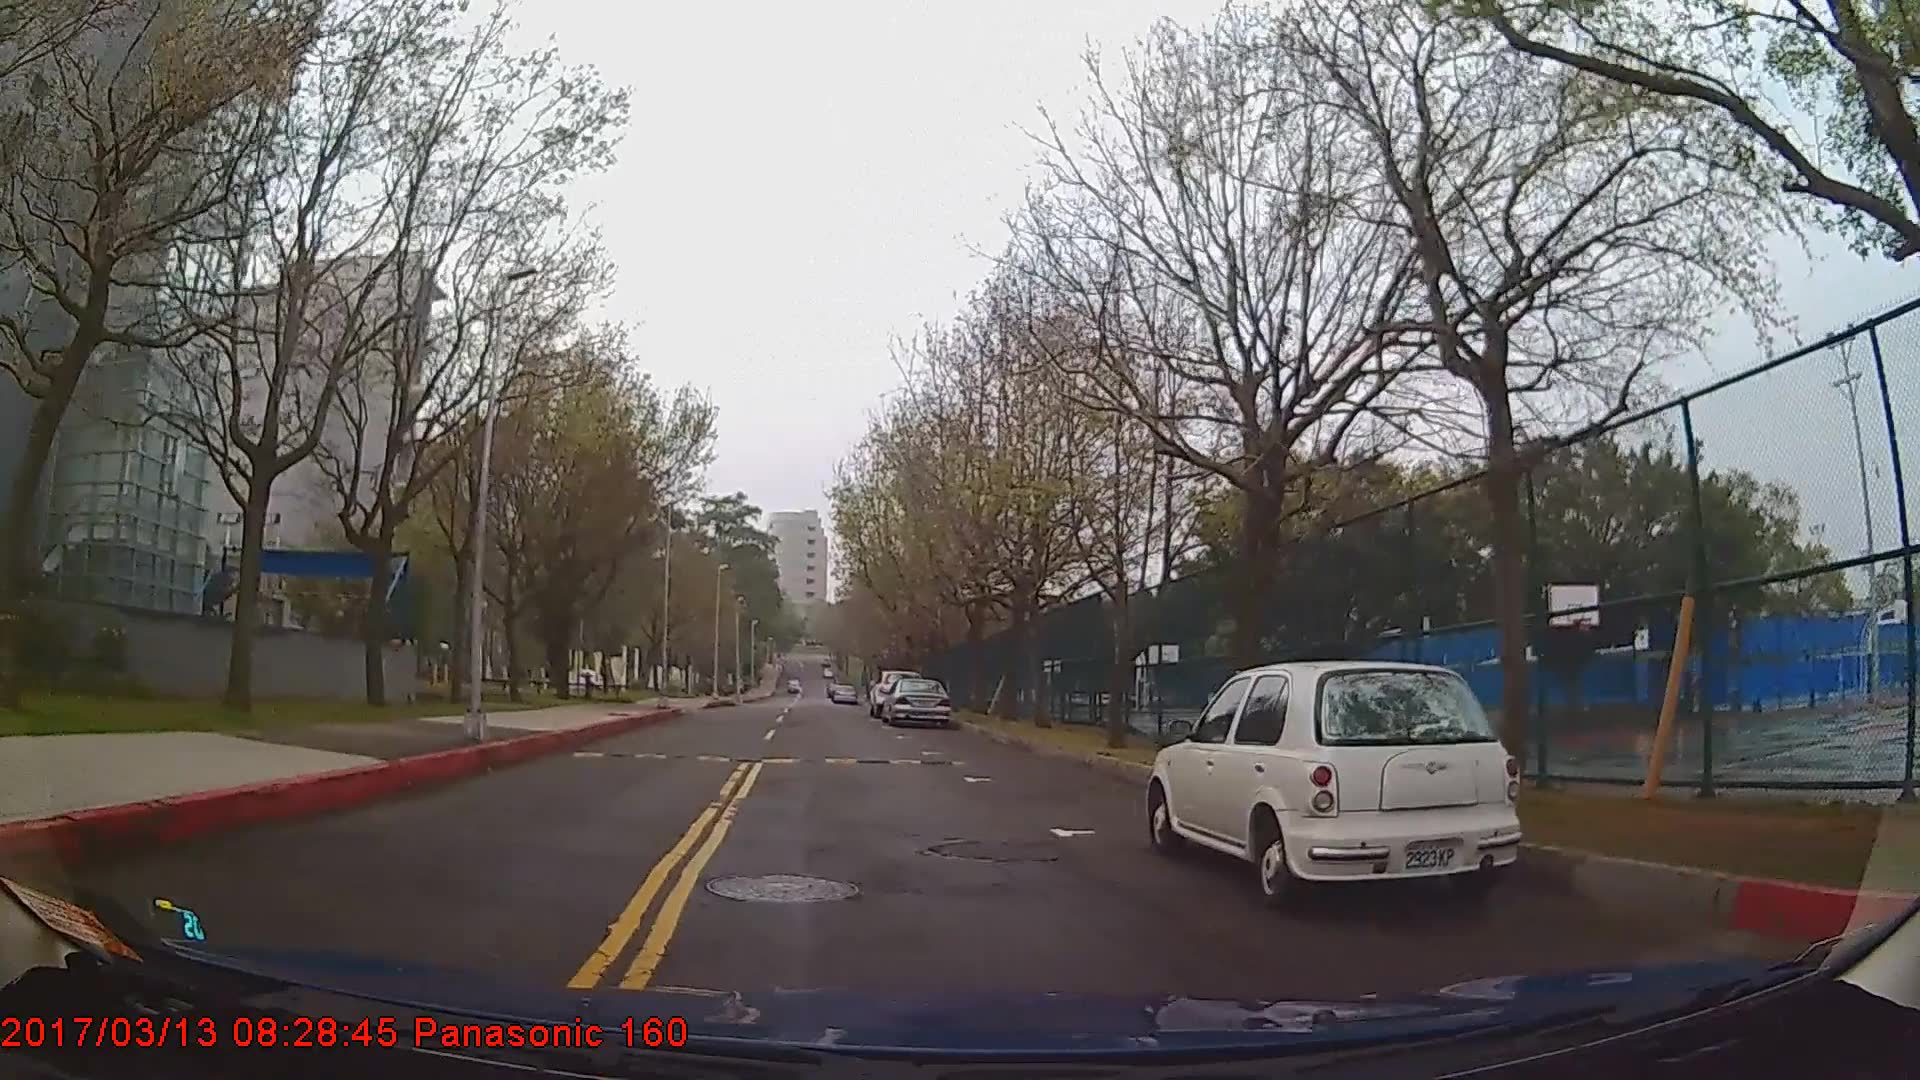vehicle: (1145, 658, 1528, 915), (880, 675, 952, 725)
